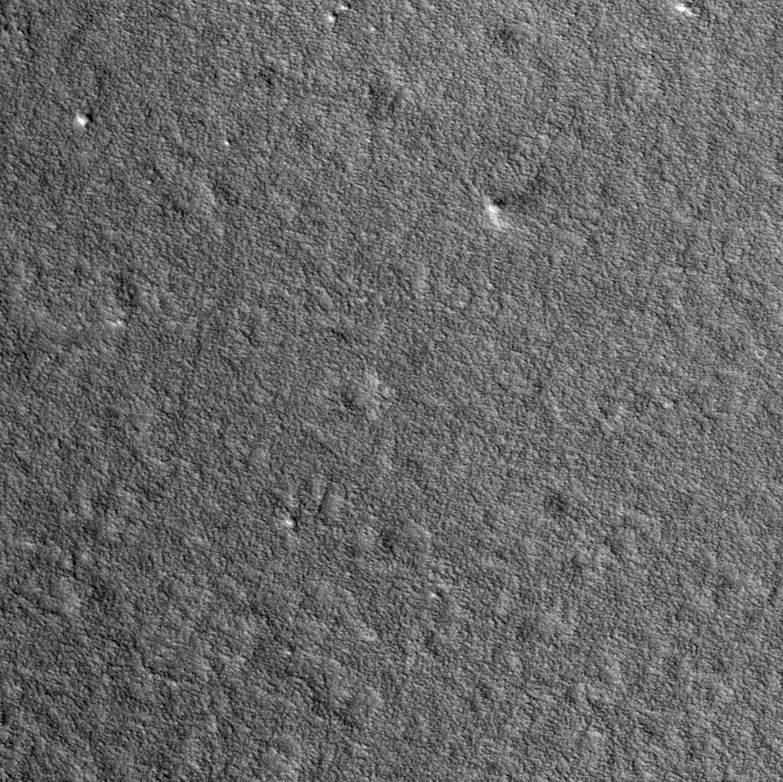dust_devil: (482, 176, 543, 230)
